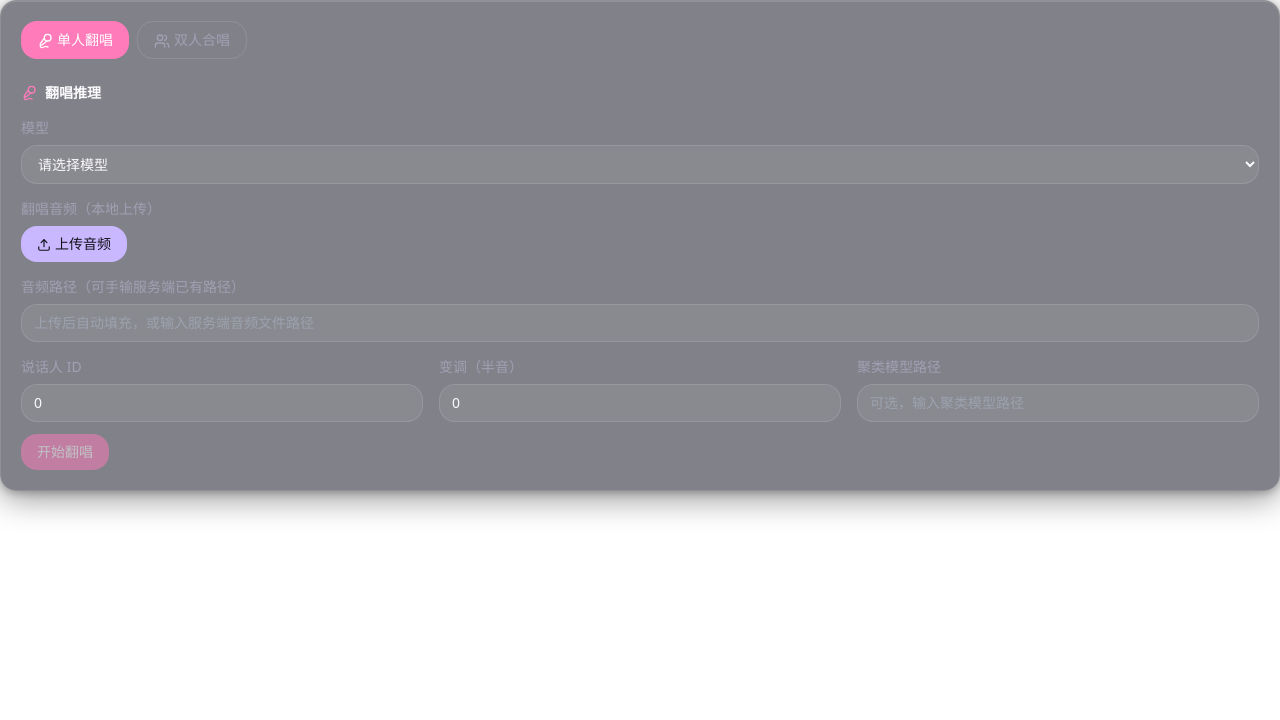
Scenario: CoverPanel 翻唱面板 › 模式切换：双人合唱模式渲染 DuetPanel，单人内容隐藏
The image size is (1280, 720).
Check: the dropdown with test id "cover-model-select" is shown, box [21,145,1259,184]
Click the button with test id "cover-mode-duet".
click(192, 40)  # box [137,21,247,59]
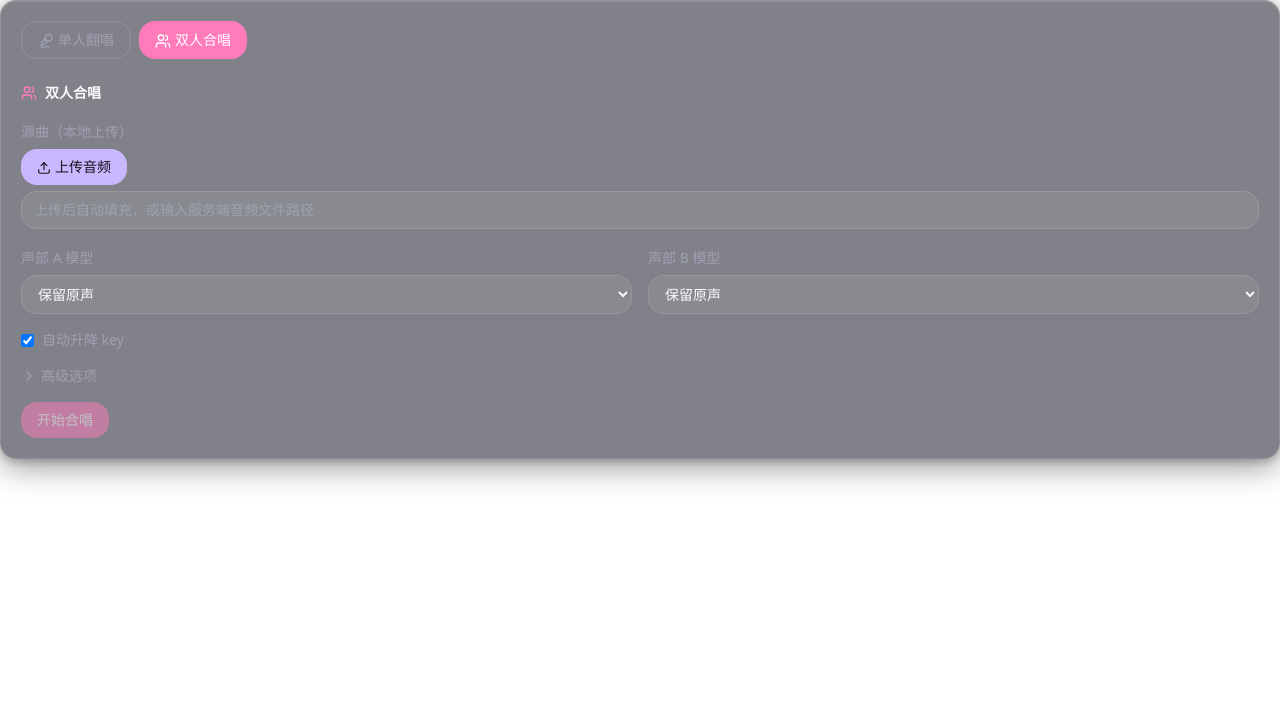
Check: the element with test id "duet-panel" is shown, box [21,83,1259,438]
Check: the dropdown with test id "duet-model-a-select" is shown, box [21,275,632,314]
Check: the button with test id "cover-infer-btn" is gone
Click the button with test id "cover-mode-solo".
click(76, 40)  # box [21,21,131,59]
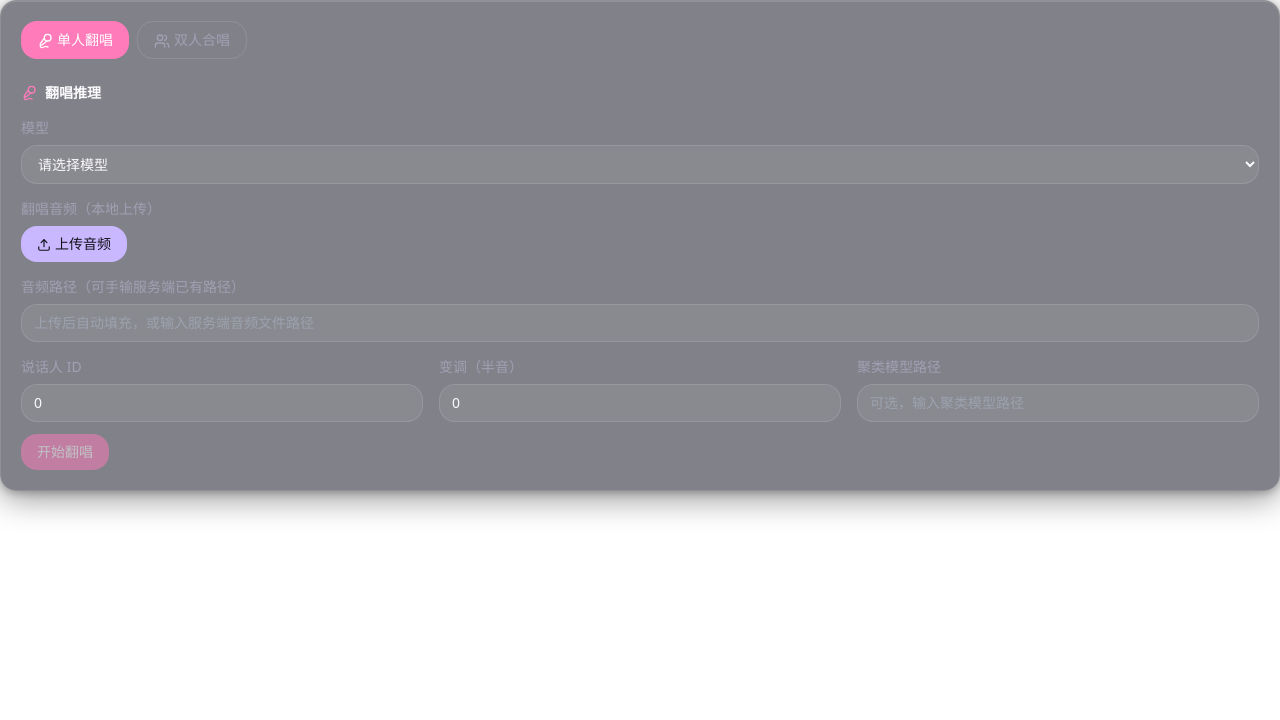
Check: the button with test id "cover-infer-btn" is shown, box [21,434,109,470]
Check: the element with test id "duet-panel" is gone
